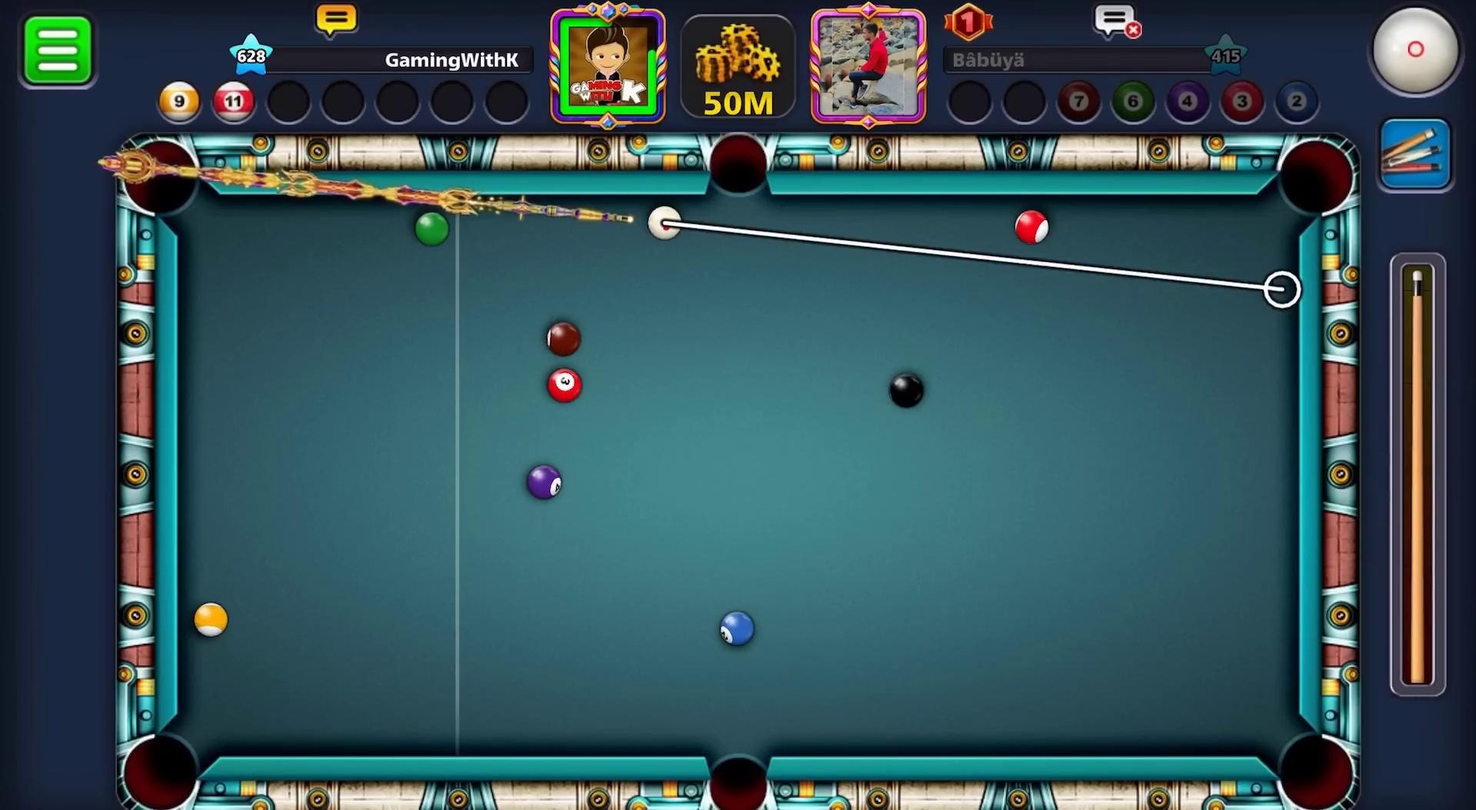Ball: (511, 452, 574, 505), (532, 316, 589, 365), (188, 595, 234, 643), (1005, 206, 1055, 248), (715, 603, 756, 653), (882, 370, 929, 412), (409, 210, 451, 249)
Force: (1388, 251, 1452, 698)
Guideline: (665, 212, 1283, 296)
Hole: (95, 124, 213, 228), (101, 709, 223, 809), (1254, 706, 1369, 809), (1262, 125, 1364, 228), (685, 711, 776, 809), (701, 120, 791, 214)
Play_Area: (178, 196, 1291, 759)
Spin: (1359, 0, 1475, 111)
White: (638, 199, 686, 245)
